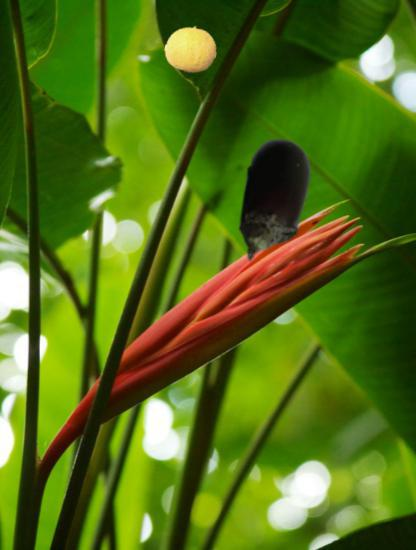Cantaloupe: (165, 23, 217, 75)
Eggplant: (209, 137, 340, 268)
